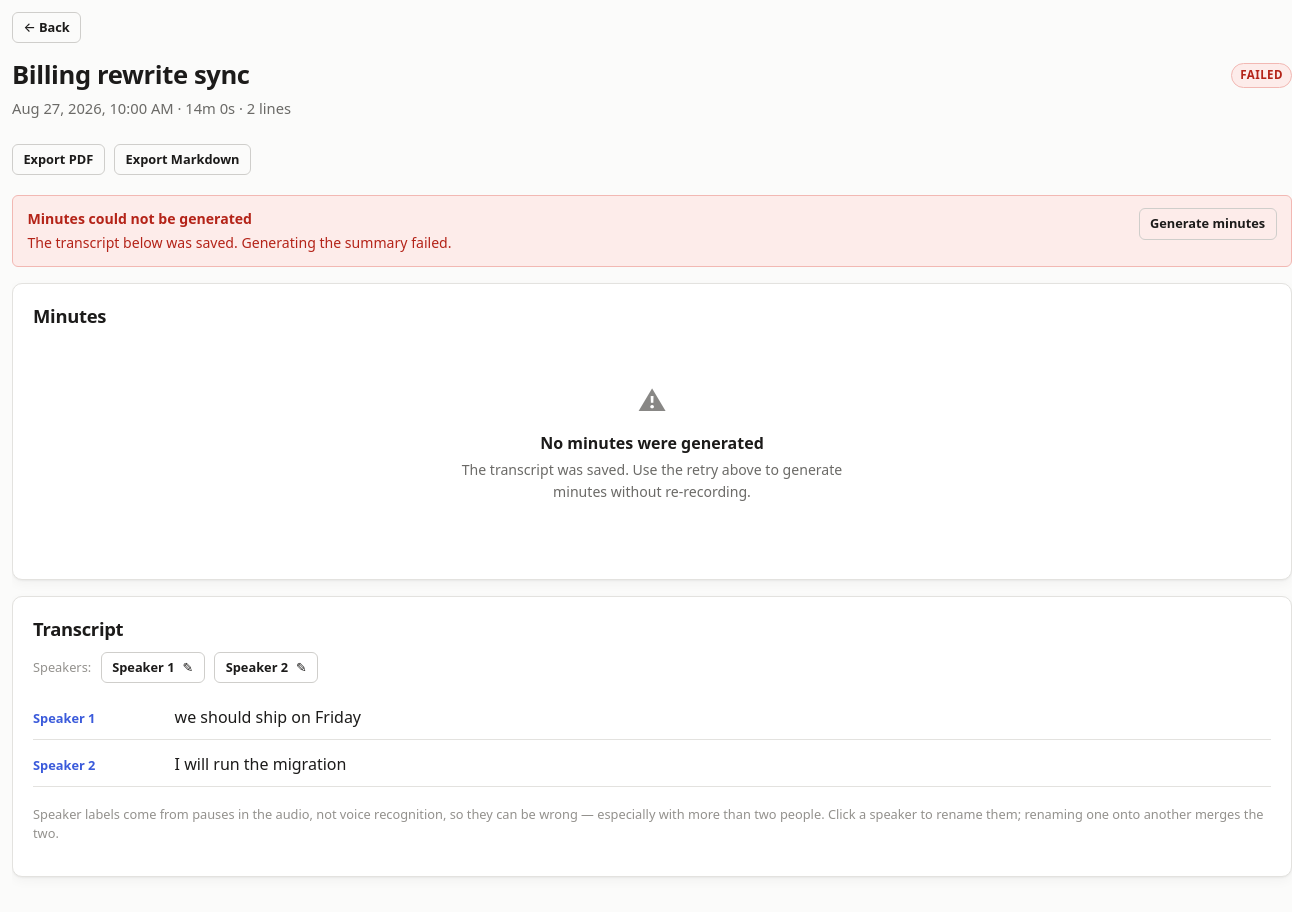
Test case: MinutesView — failed › stops offering a retry once the failure is known to be unretryable
The width and height of the screenshot is (1292, 912).
Click the button "Generate minutes": (1208, 224) [1138,208,1277,240]
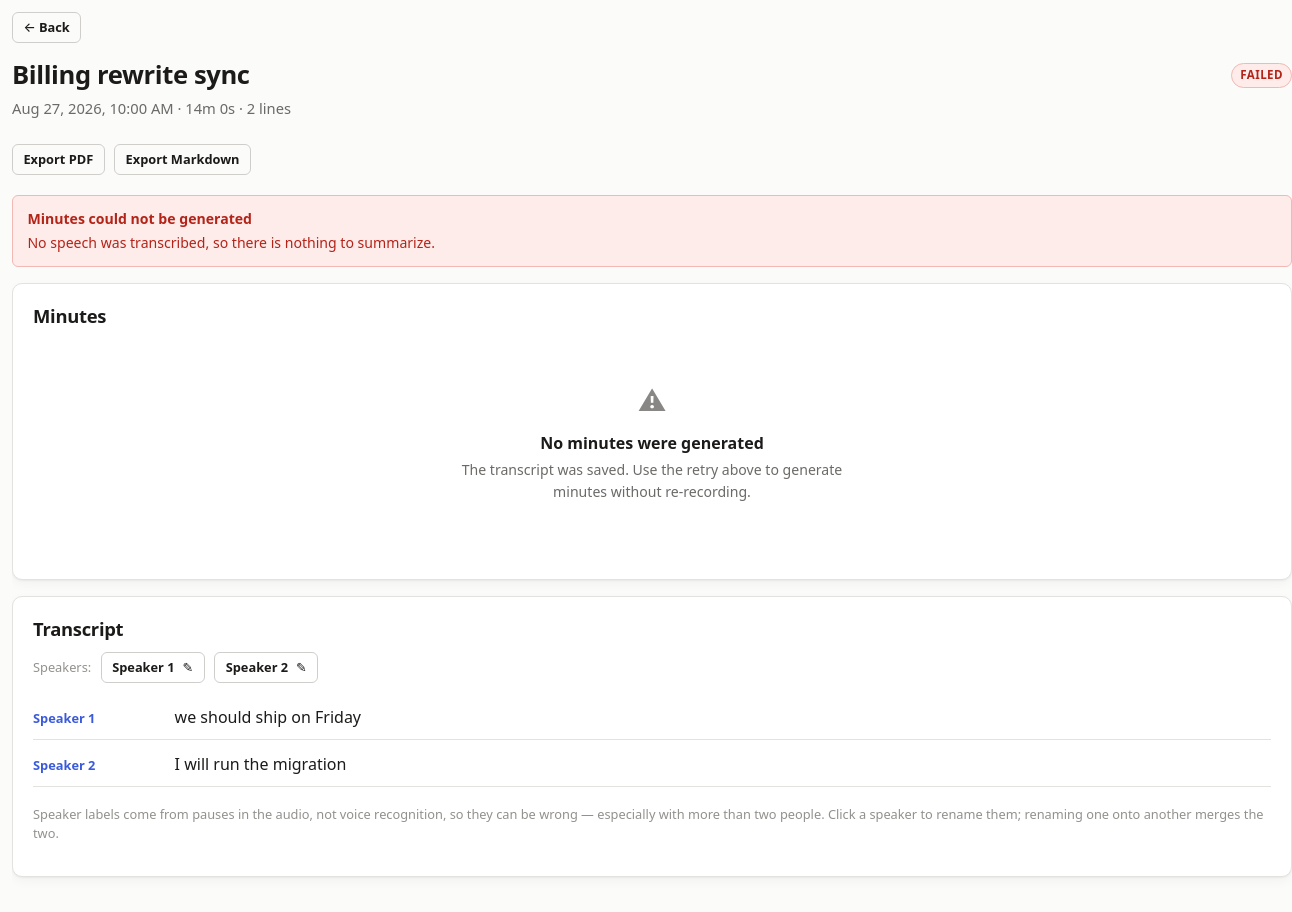
Expected: the message shows "nothing to summarize", [27,233,435,252]
